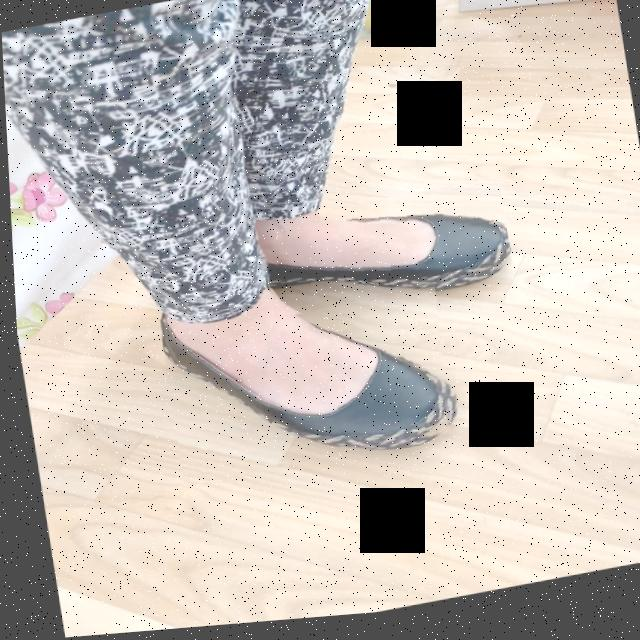shoe: (155, 293, 445, 453), (254, 218, 507, 291)
